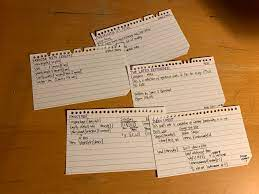Note: (151, 105, 252, 174), (65, 108, 167, 171), (28, 45, 128, 108), (90, 10, 191, 64), (127, 57, 227, 111)
